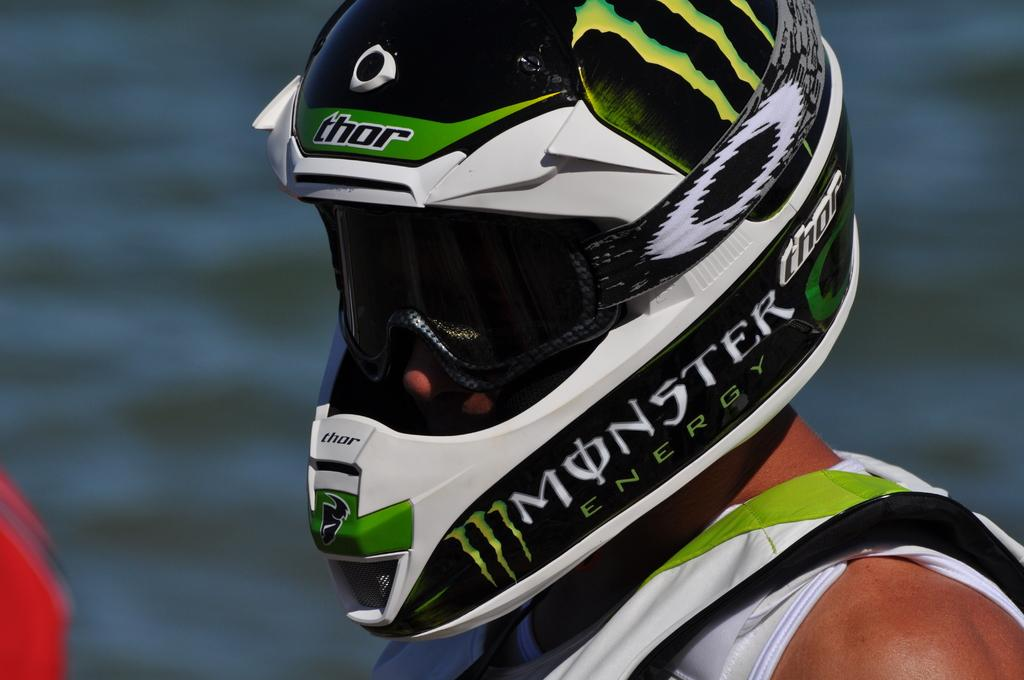helmet: (265, 0, 860, 641)
